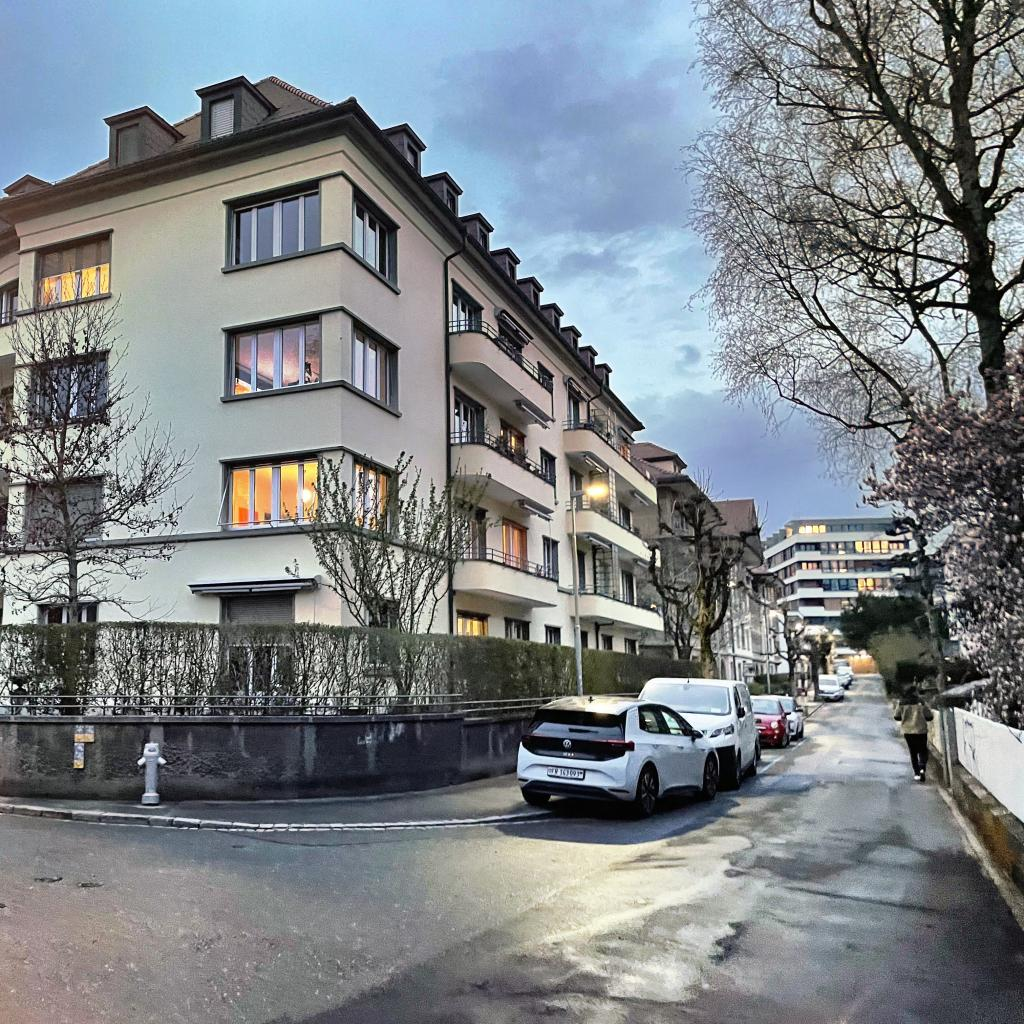balcony-fence: (448, 319, 553, 397), (561, 419, 657, 487), (449, 431, 556, 486), (566, 499, 651, 544), (452, 546, 558, 582), (571, 583, 662, 614)
car: (516, 693, 721, 818), (636, 675, 760, 790), (751, 695, 792, 748), (771, 694, 804, 741), (819, 673, 845, 701)
facade: (0, 134, 779, 690)
fence: (0, 687, 550, 803)
street: (0, 673, 1024, 1024)
traffic-infrastructure: (570, 481, 611, 692)
vegetation: (0, 259, 771, 716), (675, 0, 1024, 730), (749, 605, 835, 700)
window: (229, 314, 321, 395), (228, 186, 319, 266), (222, 593, 294, 691), (228, 456, 322, 529), (29, 354, 107, 427), (35, 232, 111, 306), (25, 477, 102, 541), (39, 605, 97, 672), (352, 320, 395, 407), (353, 191, 393, 283), (354, 460, 392, 533), (365, 596, 401, 668), (455, 503, 484, 559), (453, 283, 482, 331), (455, 392, 480, 442), (503, 521, 527, 570), (209, 94, 234, 138), (500, 323, 523, 366), (116, 122, 138, 166), (501, 423, 524, 460), (0, 279, 18, 326), (458, 613, 488, 636), (543, 537, 559, 580), (572, 549, 587, 588), (505, 619, 529, 641), (567, 391, 581, 427), (621, 568, 635, 604), (570, 469, 583, 507), (407, 140, 418, 173), (618, 501, 630, 529), (545, 625, 561, 645), (542, 453, 553, 481), (446, 187, 456, 216), (574, 629, 588, 649), (623, 637, 638, 655), (479, 226, 488, 253), (508, 259, 516, 284), (601, 635, 613, 651), (533, 287, 539, 310), (572, 335, 578, 353), (554, 313, 559, 333), (589, 354, 594, 373), (605, 370, 609, 388)
